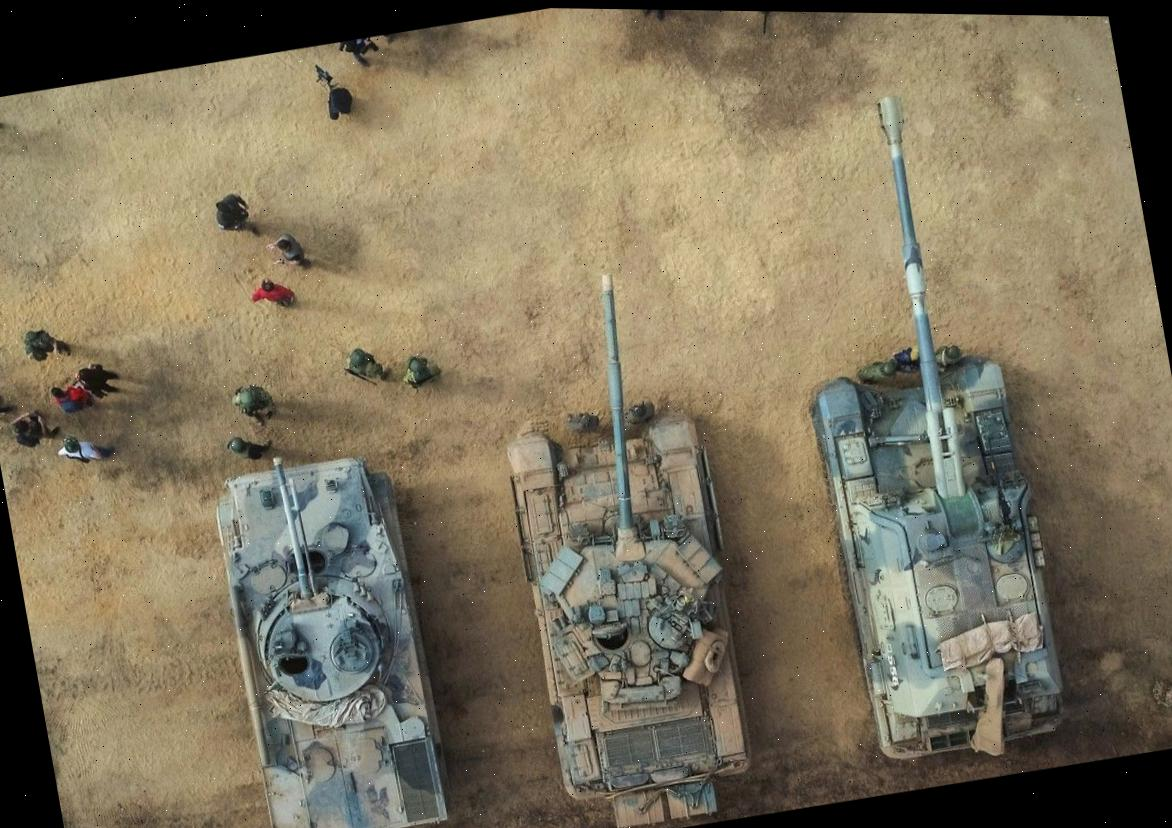armored_car: (188, 437, 463, 828)
tank: (757, 67, 1108, 778), (462, 243, 777, 828)
